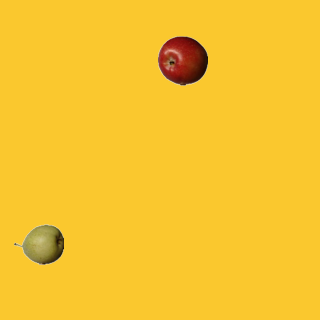Apple Braeburn: (157, 35, 207, 85)
Pear: (13, 219, 63, 269)
